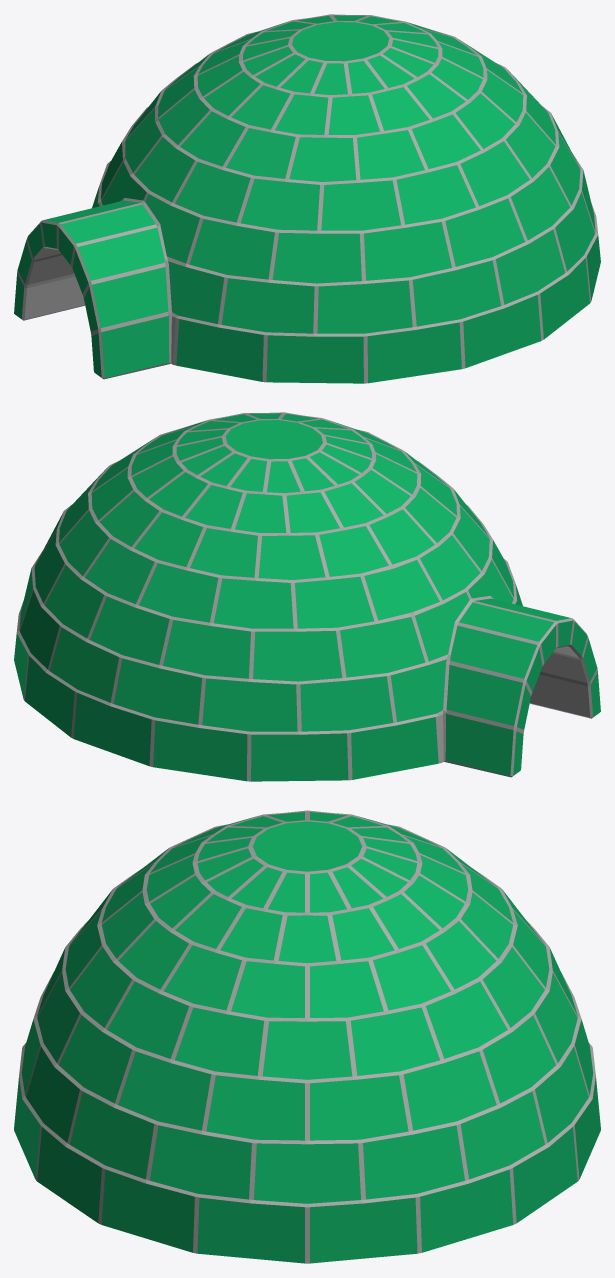
File: igloo.fbx
The picture shows the model from 3 angles, top to bottom: view 1: azimuth 30°, elevation 25°; view 2: azimuth 150°, elevation 25°; view 3: azimuth 270°, elevation 25°; orthographic projection. The views are drawn at different scales.
Visible parts, largest first — view 1: Sphere; view 2: Sphere; view 3: Sphere.
Boxes of the visible parts, bbox=[...] form: Sphere: bbox=[14, 14, 600, 383]; Sphere: bbox=[14, 412, 600, 781]; Sphere: bbox=[14, 810, 600, 1263].
Bounding box in the file's own units: 533 × 235 × 442.
